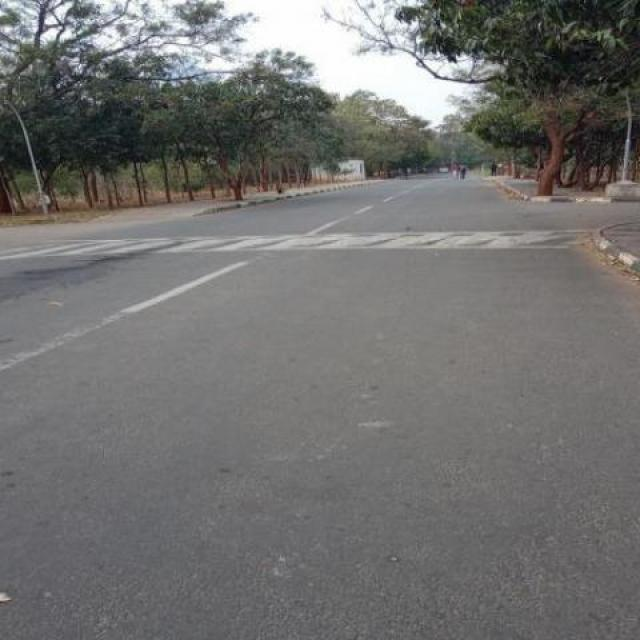Speed Bump: (2, 226, 606, 258)
